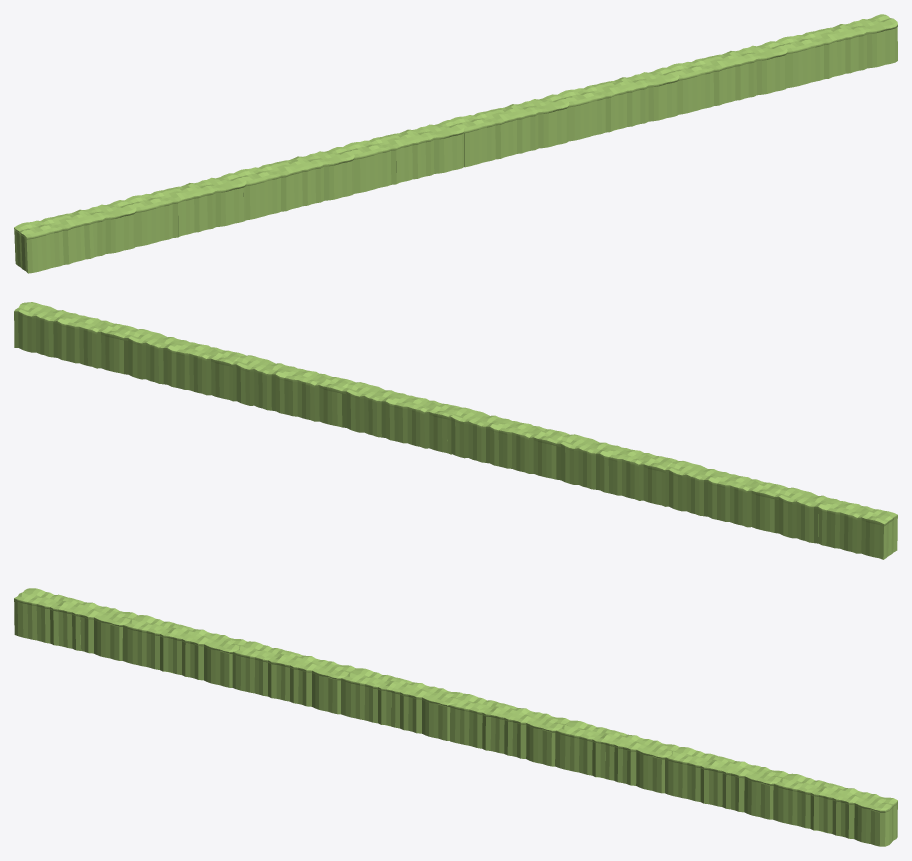
The model's file is floor3.fbx.
The picture shows the model from 3 angles, top to bottom: view 1: azimuth 30°, elevation 25°; view 2: azimuth 150°, elevation 25°; view 3: azimuth 330°, elevation 25°; orthographic projection.
Parts seen in each view (by area): view 1: floor.003; view 2: floor.003; view 3: floor.003.
Part boxes in pixels (x1,y1,x2,y2): floor.003: (14,14,897,273); floor.003: (14,302,897,559); floor.003: (14,588,897,846).
Size of the model in its own units: 65.77 by 2156 by 92.39.
